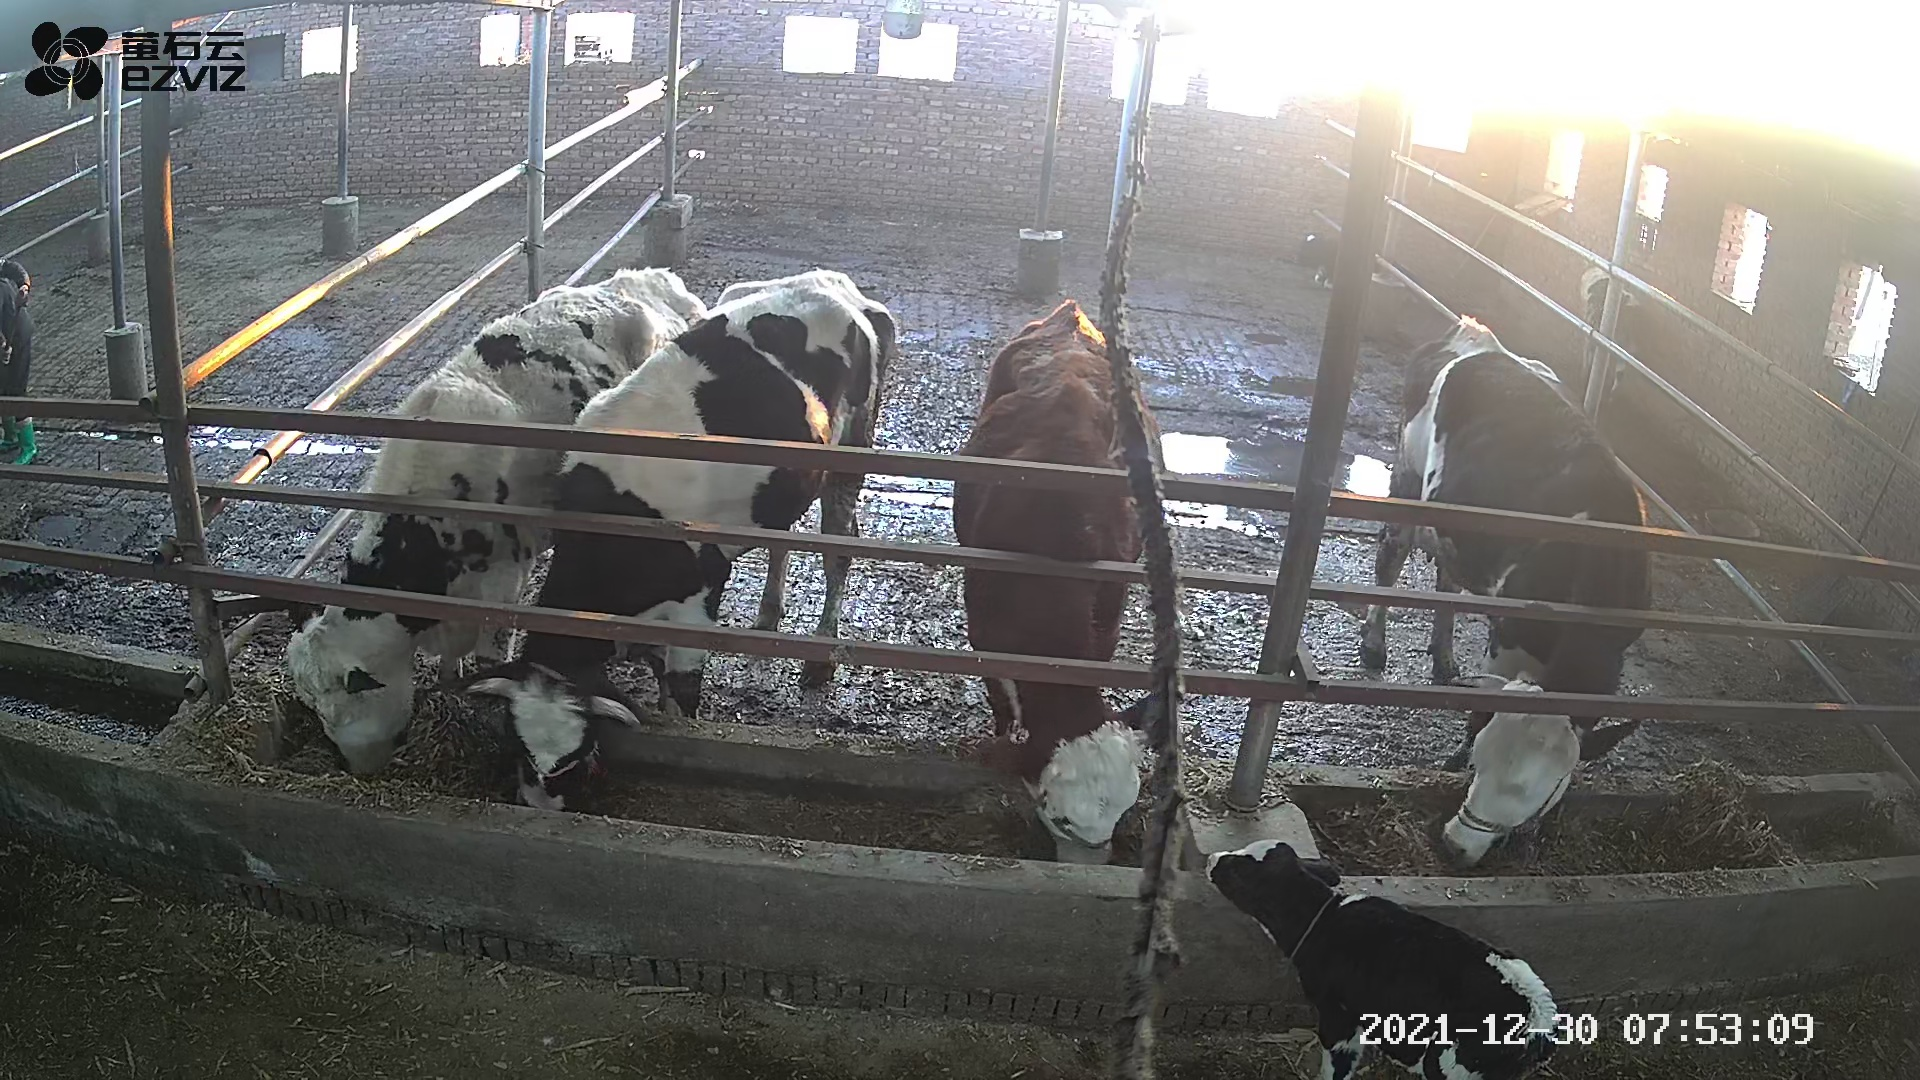cow: (462, 265, 898, 812), (284, 266, 709, 785), (1361, 313, 1651, 868), (949, 297, 1162, 868)
